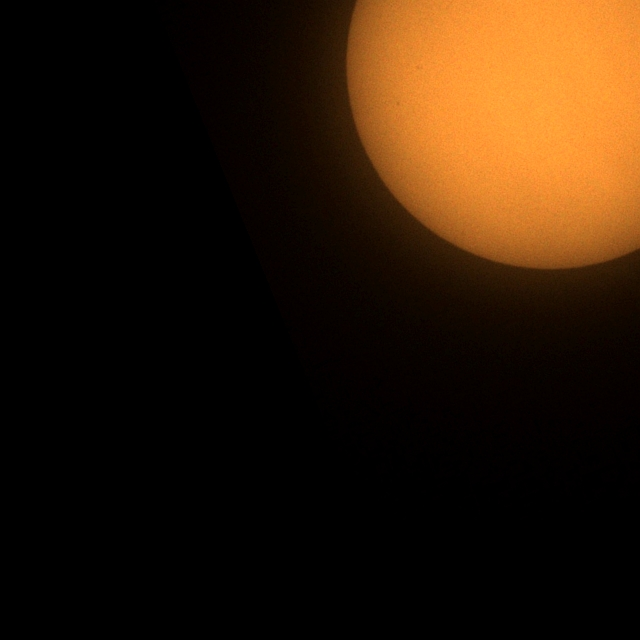sunspot: (411, 58, 427, 77)
